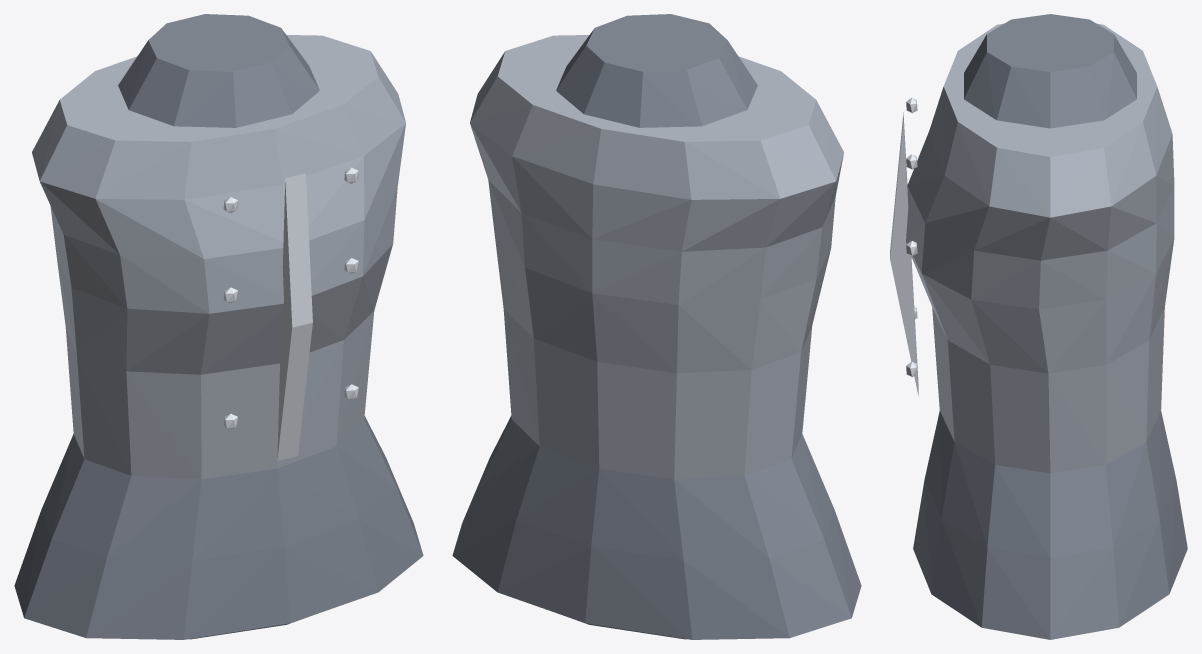
The model's file is gear_steel_body_torso_f.glb.
3 renders of one model, left to right at view 1: azimuth 30°, elevation 25°; view 2: azimuth 150°, elevation 25°; view 3: azimuth 270°, elevation 25°, orthographic. The views are drawn at different scales.
Visible parts, largest first — view 1: gear_steel_body_torso_f; view 2: gear_steel_body_torso_f; view 3: gear_steel_body_torso_f.
Boxes of the visible parts, left/top/right/bottom form: gear_steel_body_torso_f: left=14, top=14, right=423, bottom=639; gear_steel_body_torso_f: left=452, top=14, right=861, bottom=639; gear_steel_body_torso_f: left=890, top=14, right=1187, bottom=639.
Size of the model in its own units: 0.452 by 0.59 by 0.312.
